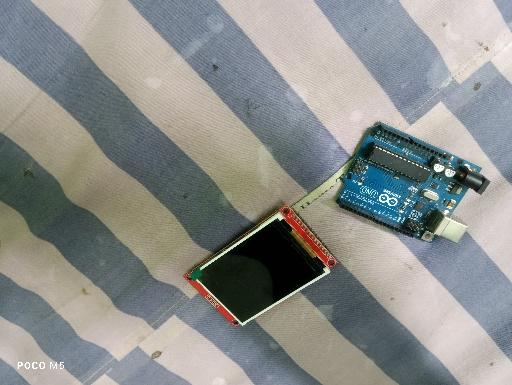Arduino: (334, 119, 492, 246)
Display: (181, 202, 340, 329)
